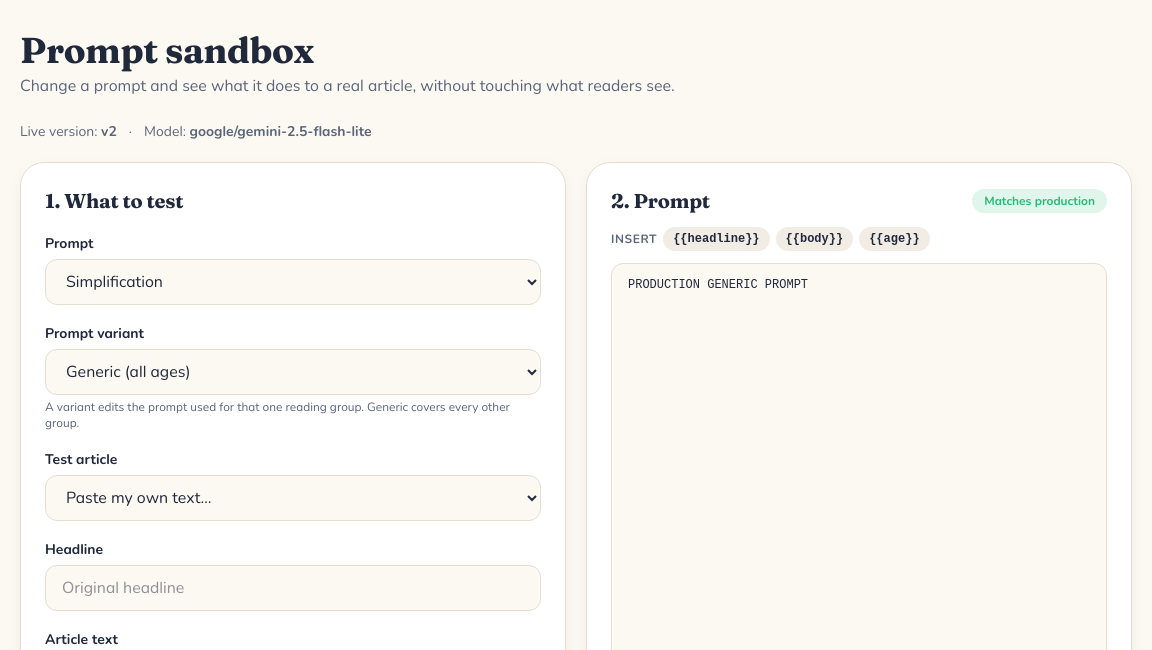
Test case: loading the live prompt (§7.3) › loads the guard prompt for the guard target
The width and height of the screenshot is (1152, 650).
Step 1. Select "Safety guard" in the dropdown labelled "Prompt" → [293, 282], box left=45, top=259, right=541, bottom=305
(page scrolled)
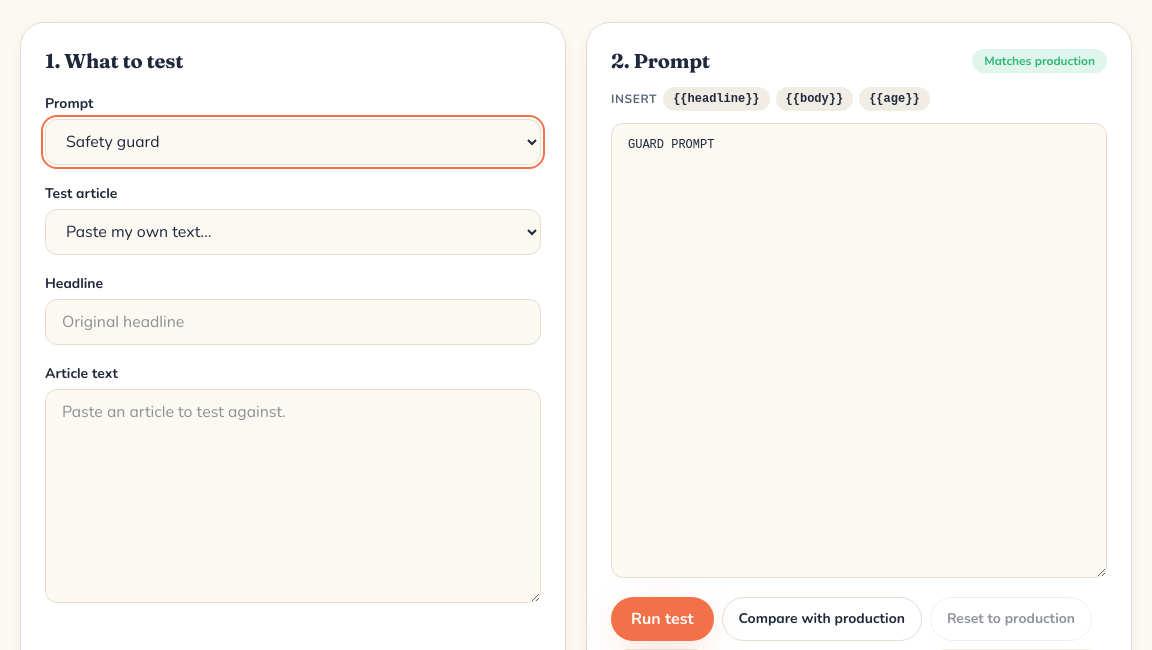
Result: the text box showing "GUARD PROMPT" is shown at left=611, top=123, right=1107, bottom=578
